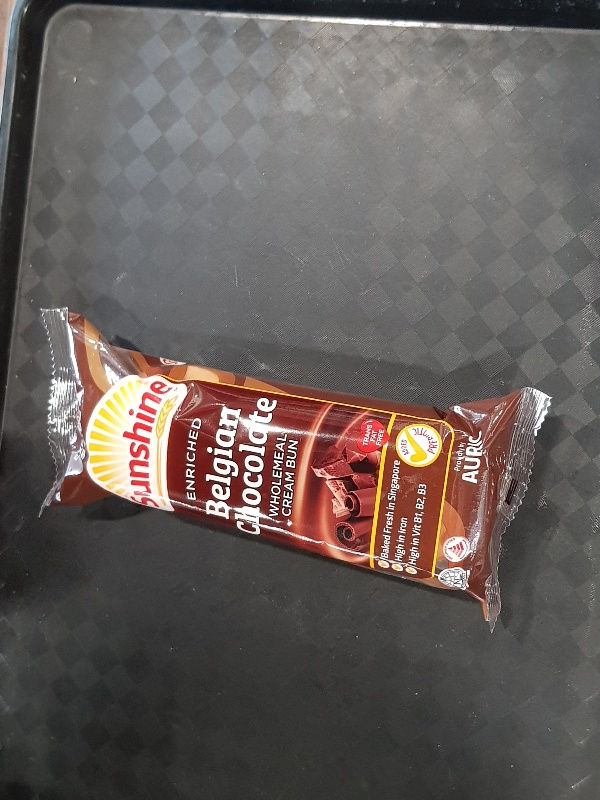Sunshine Belgium Chocolate Wholemeal Cream Bun: (32, 305, 553, 627)
